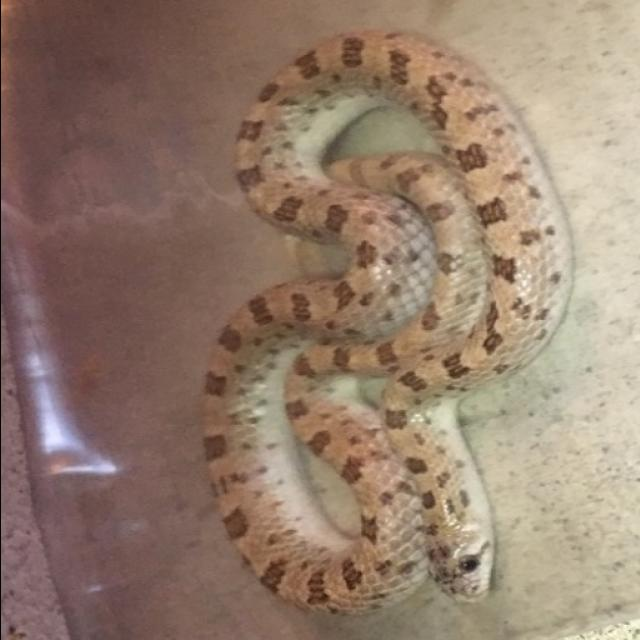snake: (189, 16, 561, 624)
